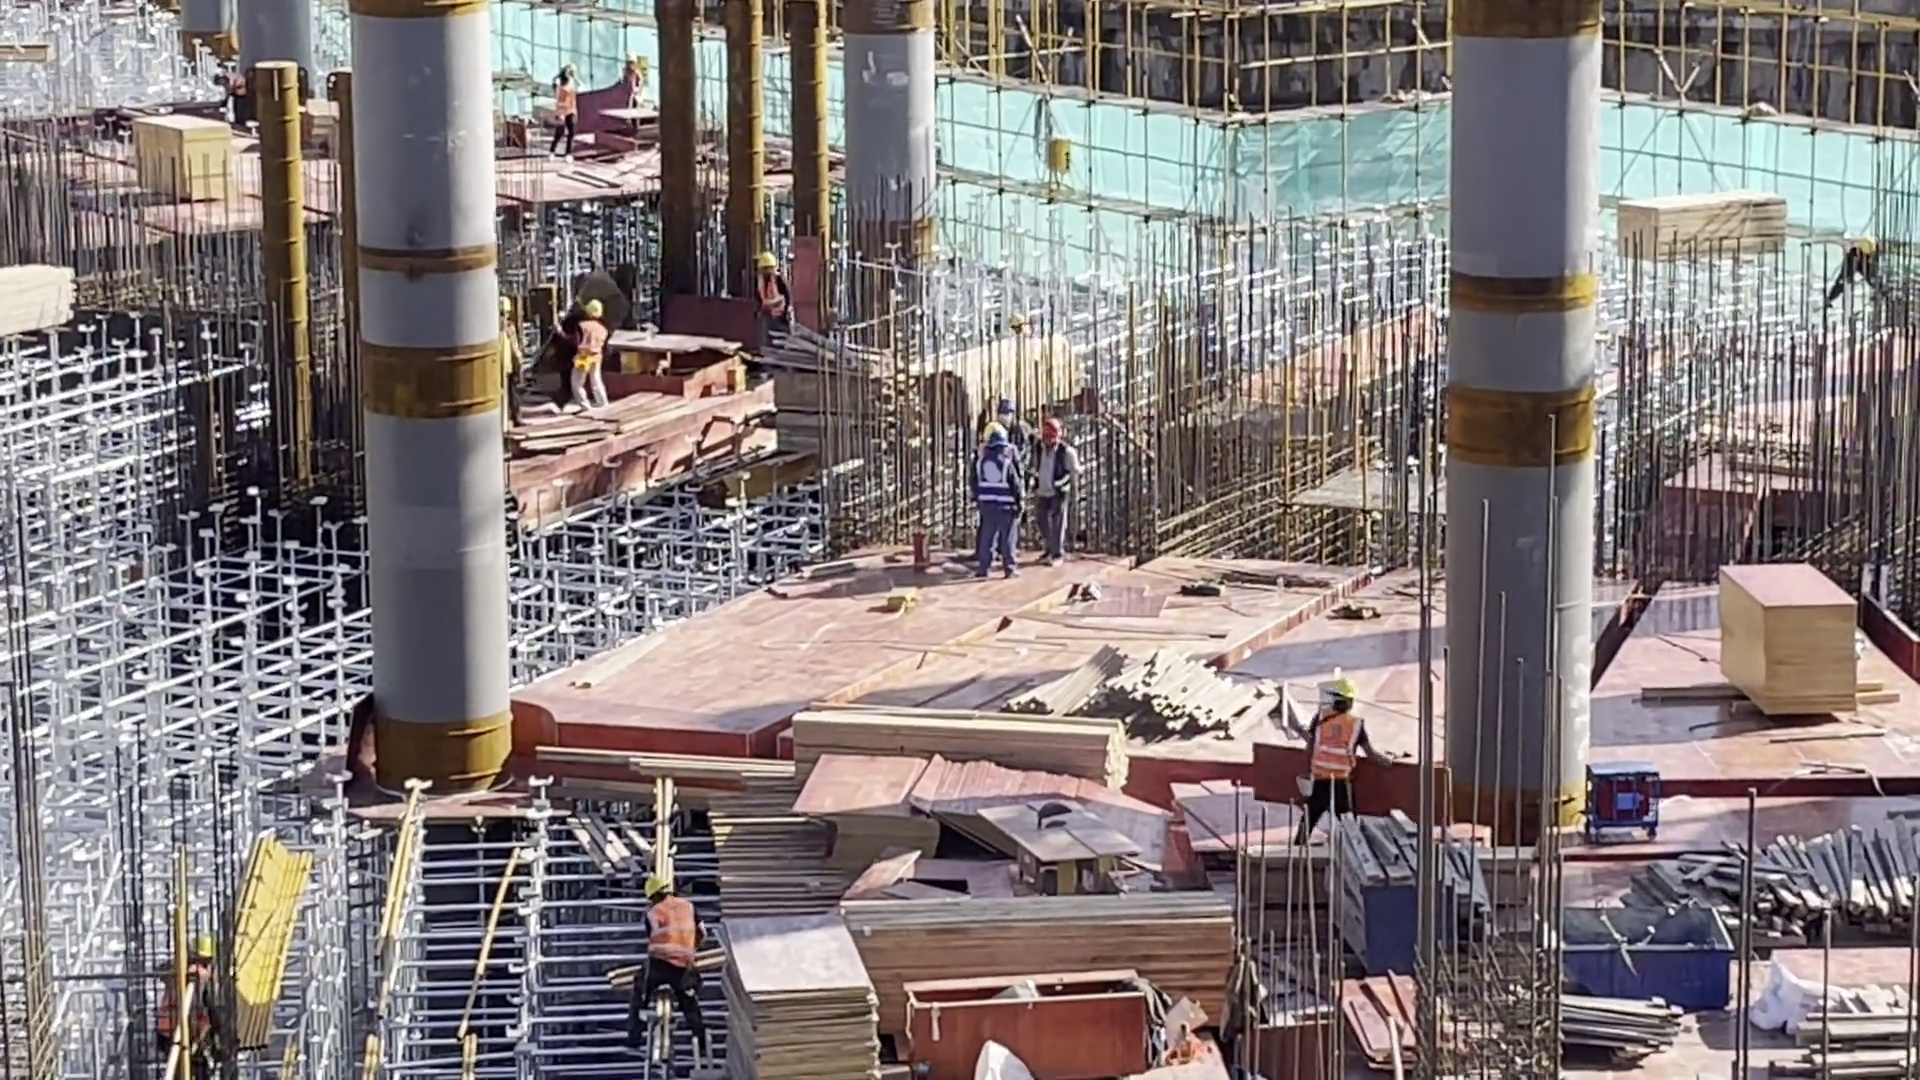helmet: (640, 875, 672, 898), (1038, 416, 1065, 440), (1329, 677, 1355, 699), (583, 299, 604, 320), (985, 433, 1010, 449), (995, 399, 1020, 415), (756, 253, 776, 269)
person: (624, 876, 711, 1057), (1299, 680, 1379, 844), (1026, 415, 1079, 571), (1819, 234, 1905, 316), (974, 430, 1022, 580), (570, 298, 607, 412), (751, 249, 793, 335), (979, 396, 1032, 449), (553, 61, 580, 157), (622, 54, 642, 115)
vest: (1311, 710, 1360, 793), (649, 897, 699, 972), (974, 460, 1016, 517), (1032, 442, 1072, 499), (756, 270, 785, 317), (574, 323, 603, 367), (558, 86, 575, 119)
